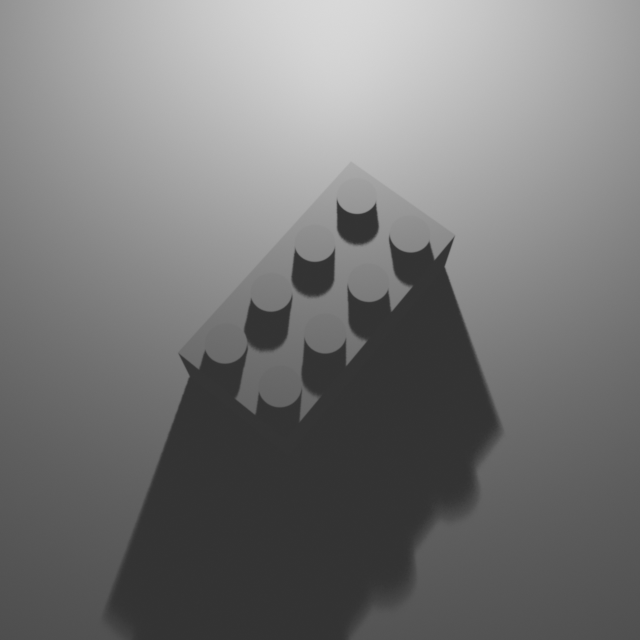lego_2x4: (176, 155, 457, 456)
